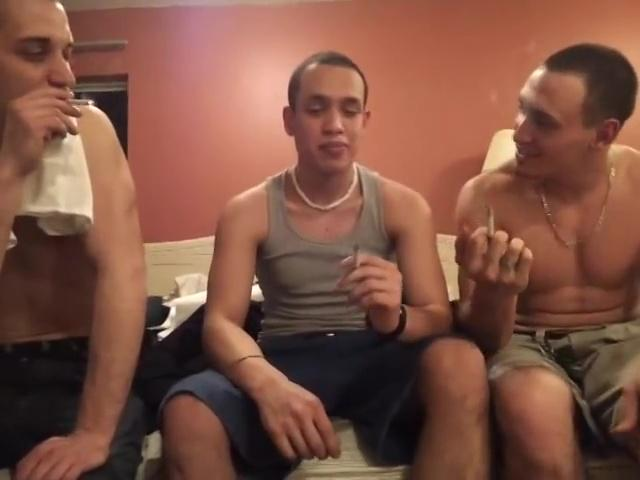cigarette: (348, 240, 365, 271), (485, 203, 498, 242), (62, 96, 99, 107)
